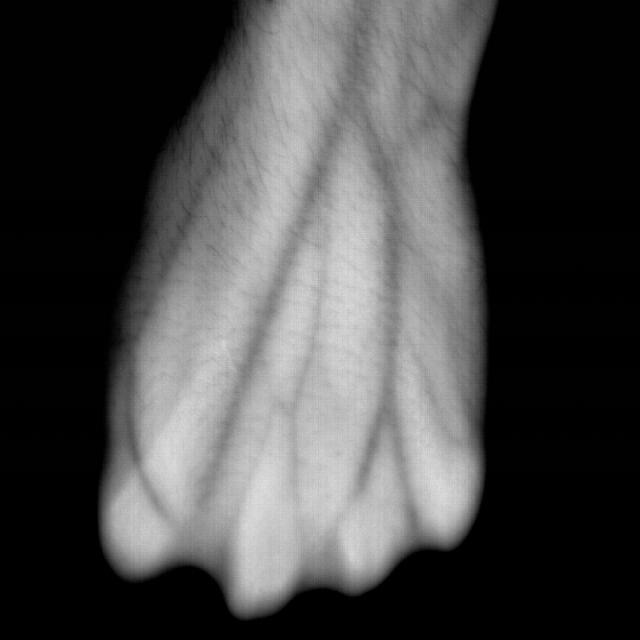Vein: (210, 17, 410, 493)
